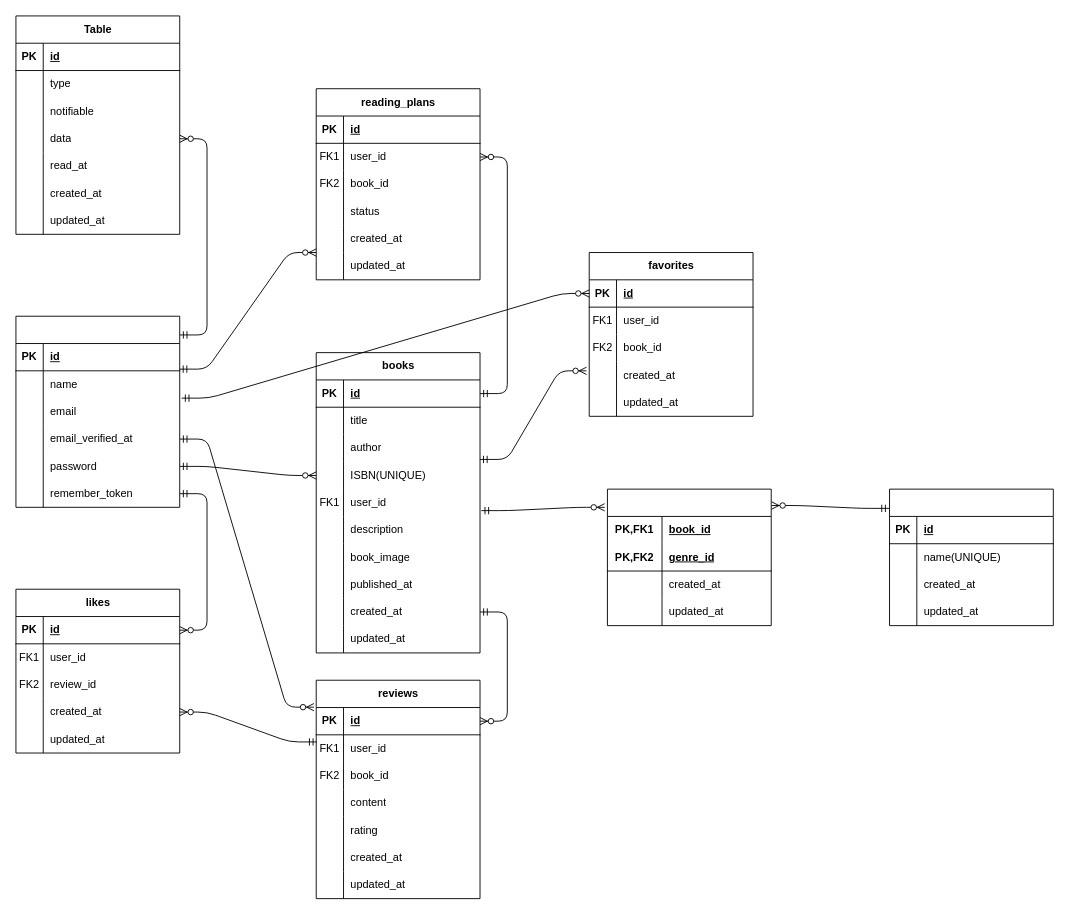
Some shapes in this 1069 by 915 pixel diagram are drawn without their labels. Here are the shapes that lost their labels. From the top down, the box of each, then its label:
(15, 315, 180, 507): users
(607, 488, 771, 626): book_genre
(889, 488, 1053, 626): genres
